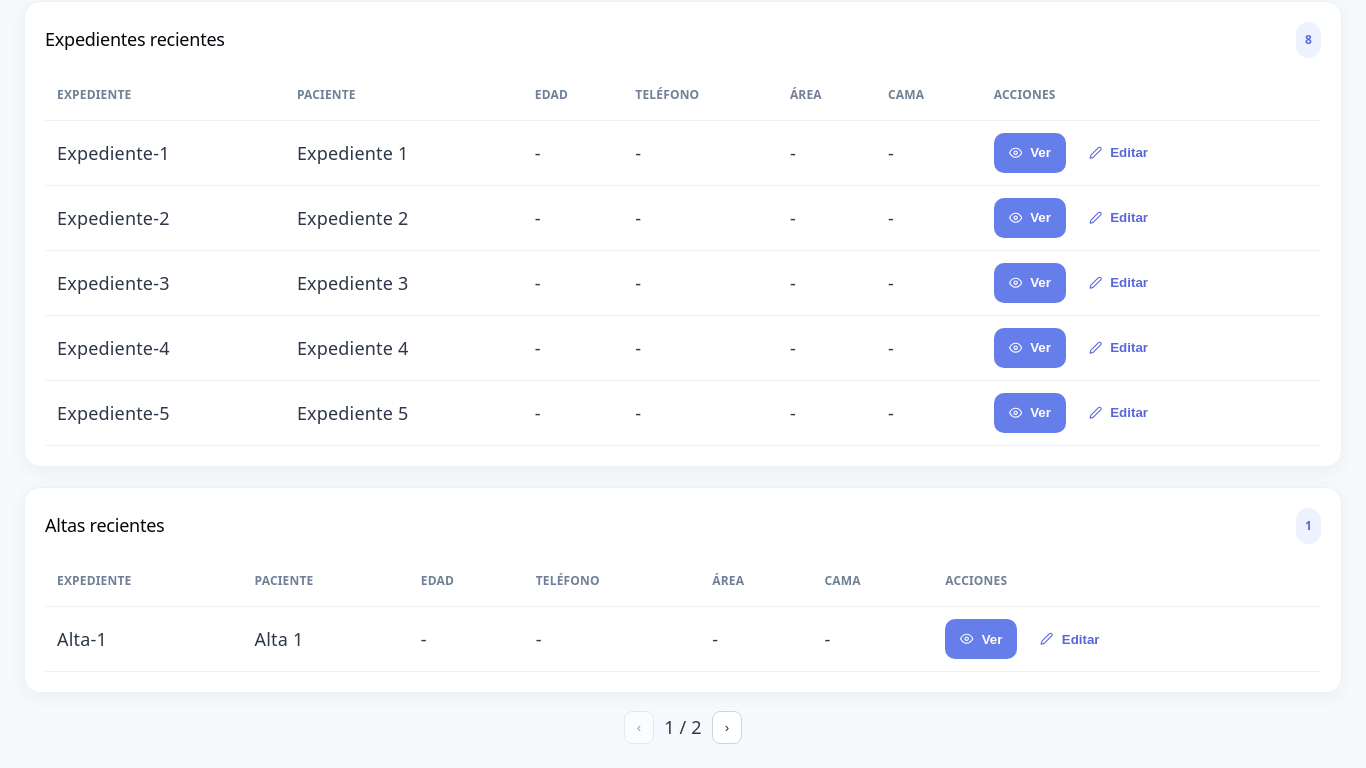
Test: moves all patient groups together and returns to page one after server search
(page scrolled)
Click the button named "Siguiente" at (727, 728), box [712, 711, 742, 744]
(page scrolled)
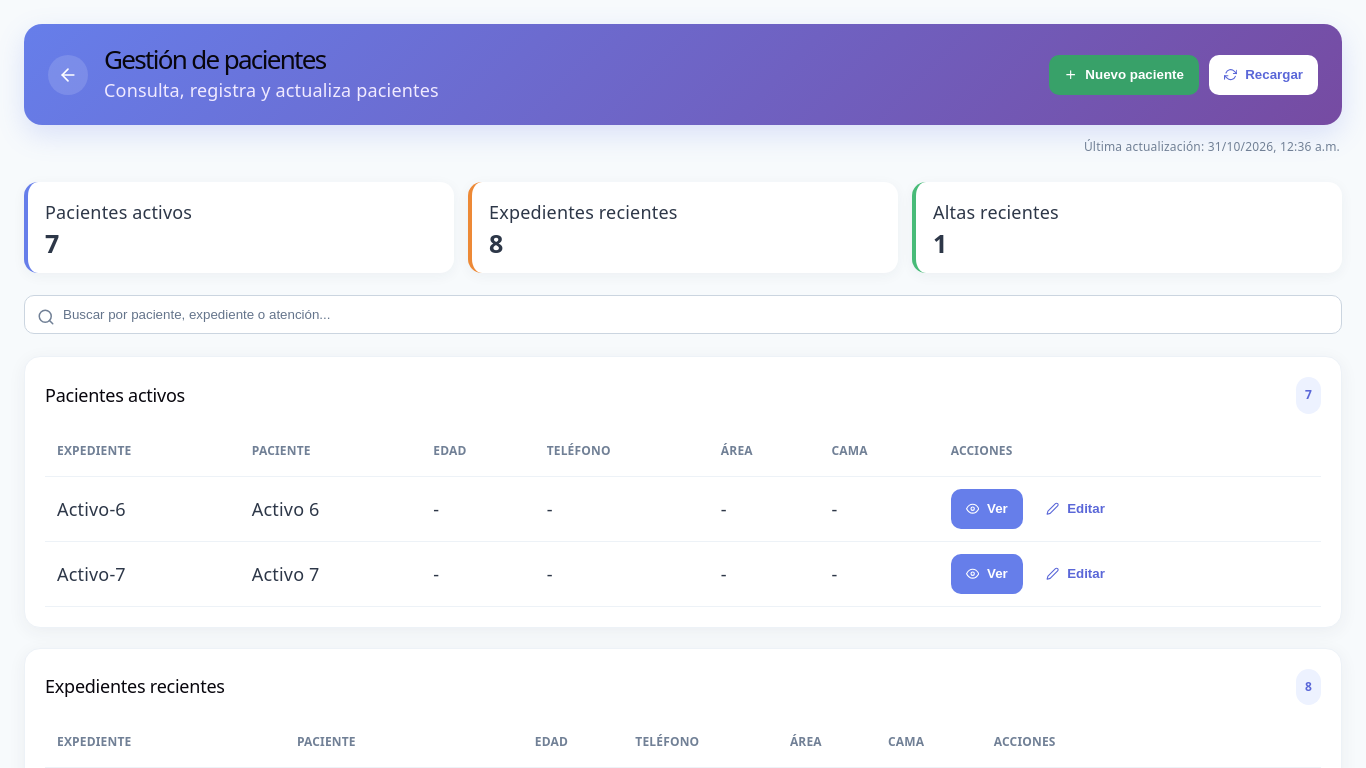
Expected: the text "Activo 6" is shown, [240, 476, 421, 541]
Type "Encontrado" into the field with placeholder "Buscar por paciente, expediente o atención..." at (683, 315), box [24, 296, 1342, 334]
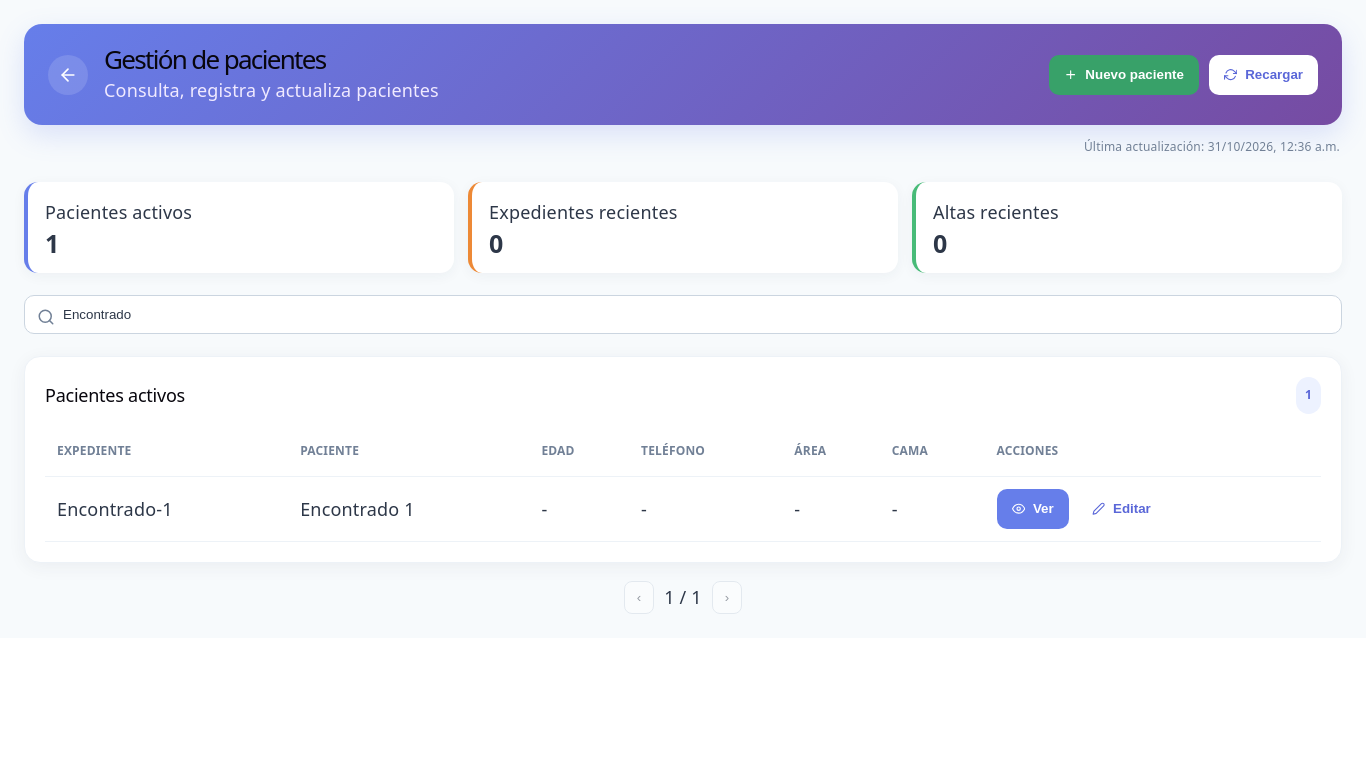
Expected: the text "Encontrado 1" is shown, [288, 476, 529, 541]
Expected: the text "1 / 1" is shown, [664, 584, 702, 610]
